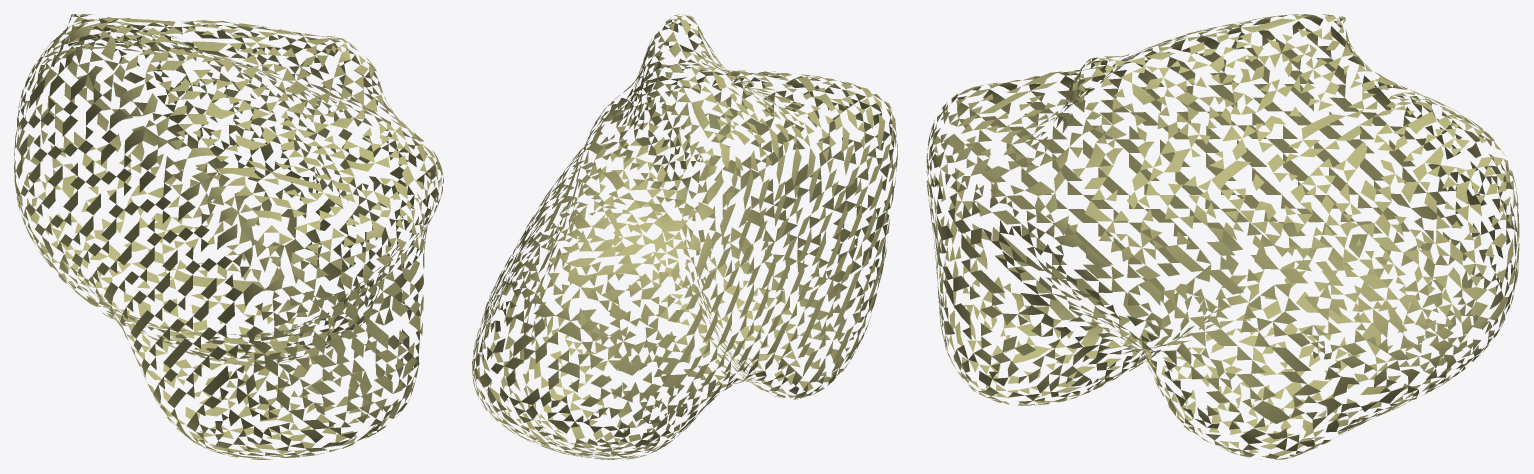
File: morph_009.glb
The picture shows the model from 3 angles, left to right: view 1: azimuth 30°, elevation 25°; view 2: azimuth 150°, elevation 25°; view 3: azimuth 270°, elevation 25°; orthographic projection. The views are drawn at different scales.
Bounding box in the file's own units: 14.79 × 20.77 × 28.9.
